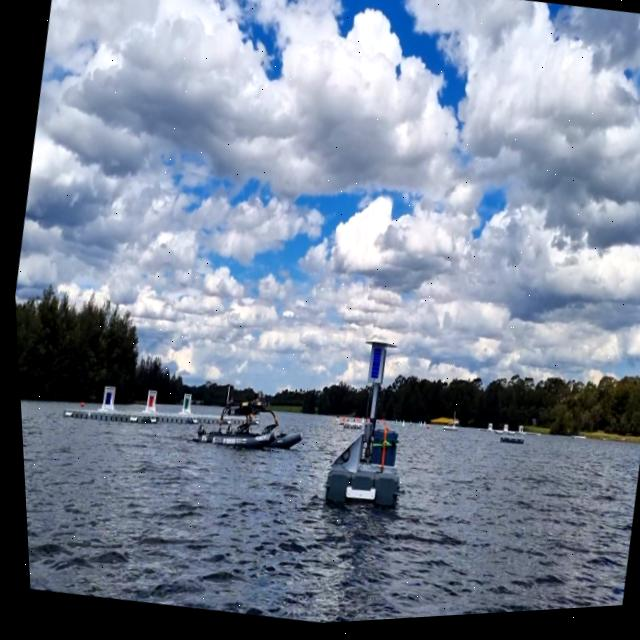led: (362, 348, 381, 387)
